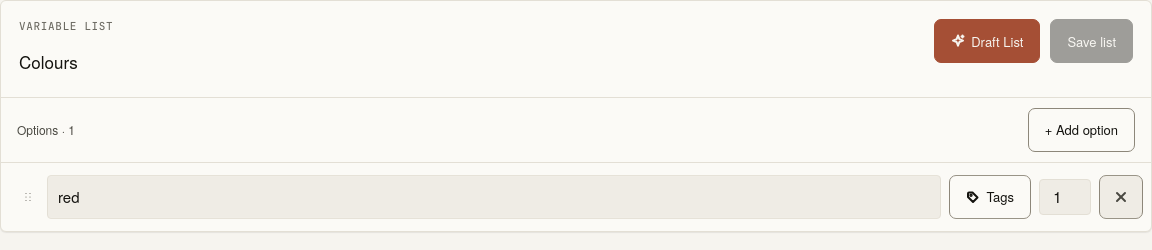
Test: ListEditor — AI Draft List › weight input clamps out-of-range values and announces the clamp
Replace the text in the number field named "how often this option appears when picked randomly" with "999" at (1065, 197), box [1039, 179, 1091, 215]
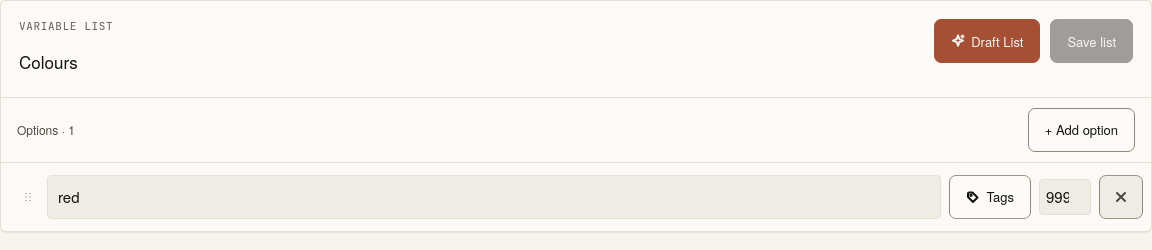
Leave the number field named "how often this option appears when picked randomly", box [1039, 179, 1091, 215]
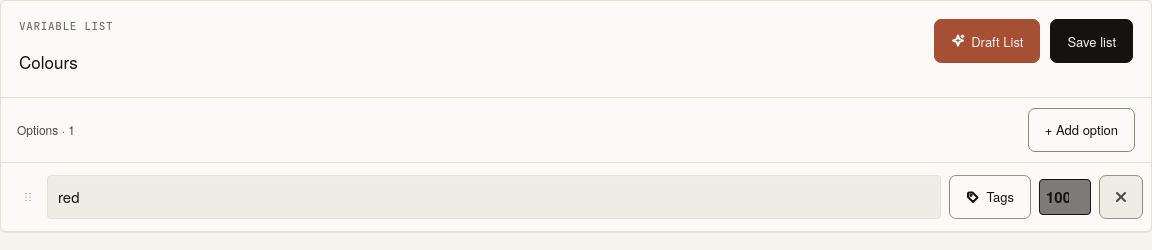
Check: the number field named "how often this option appears when picked randomly" holds "100", box [1039, 179, 1091, 215]
